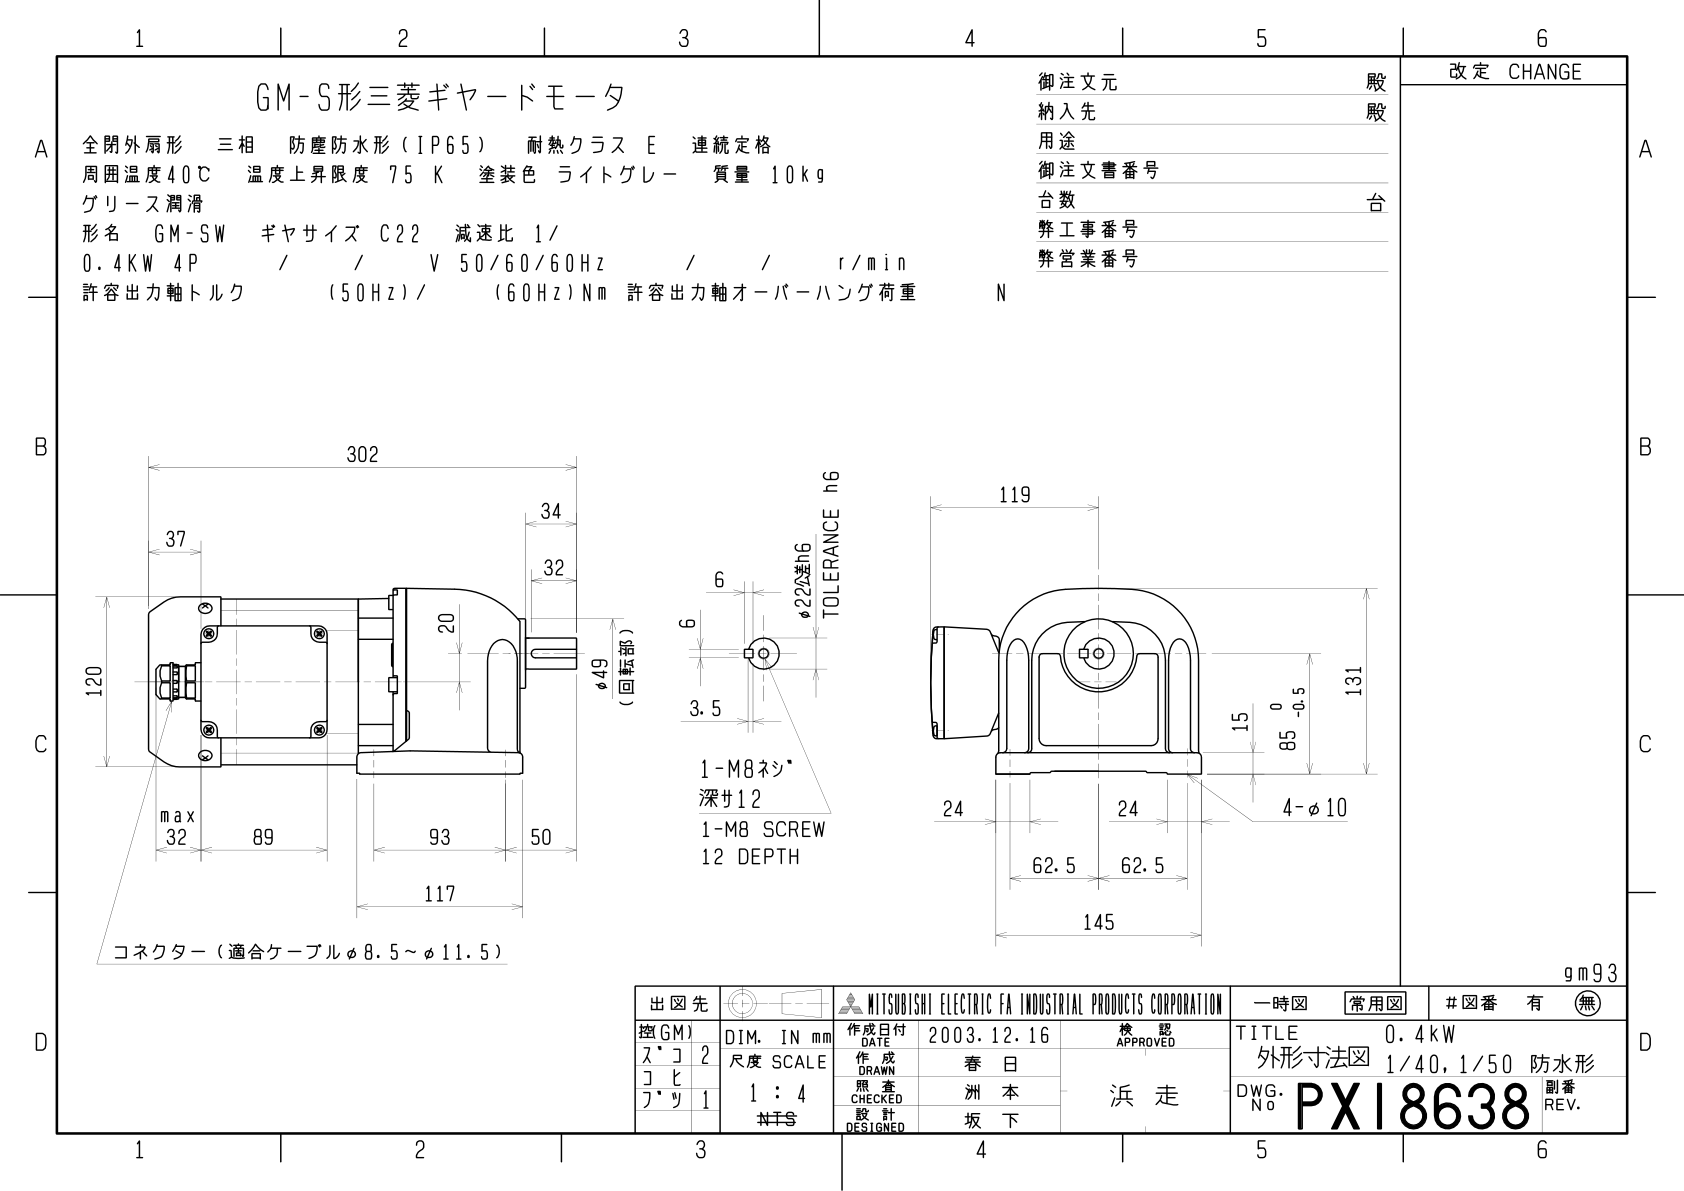GM_S_IP65＿三相_脚: (67, 406, 1392, 969)
